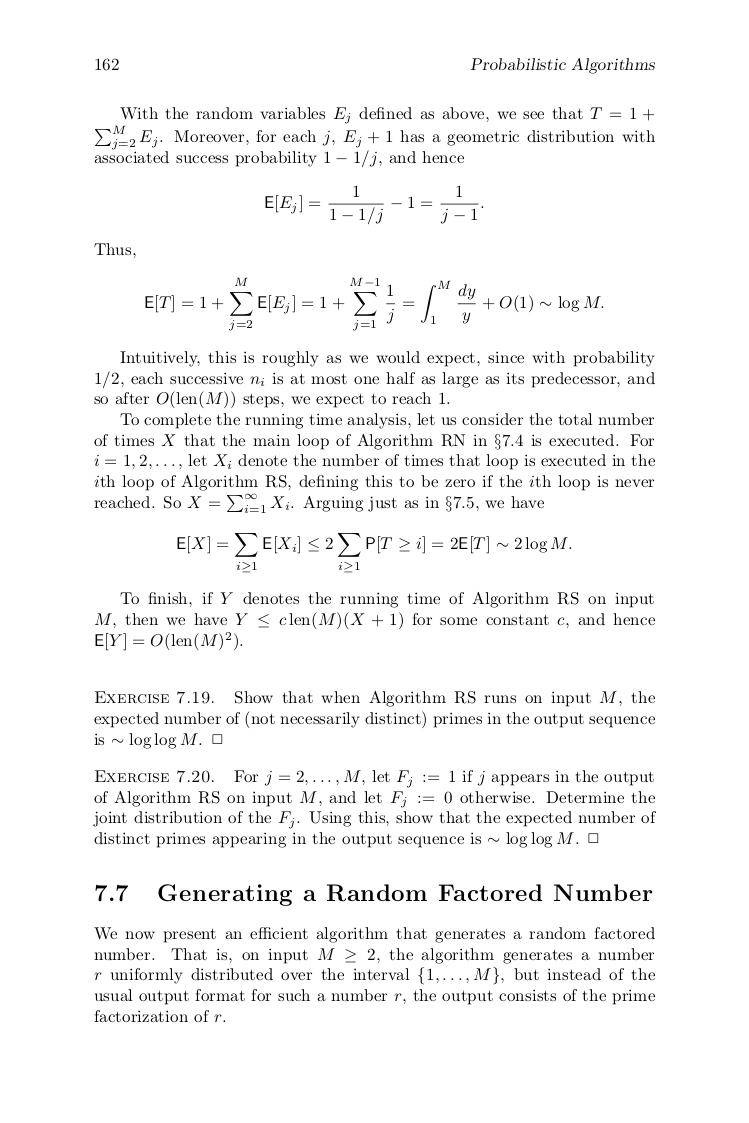formula: (145, 276, 603, 331), (177, 533, 571, 572), (265, 184, 483, 225)
